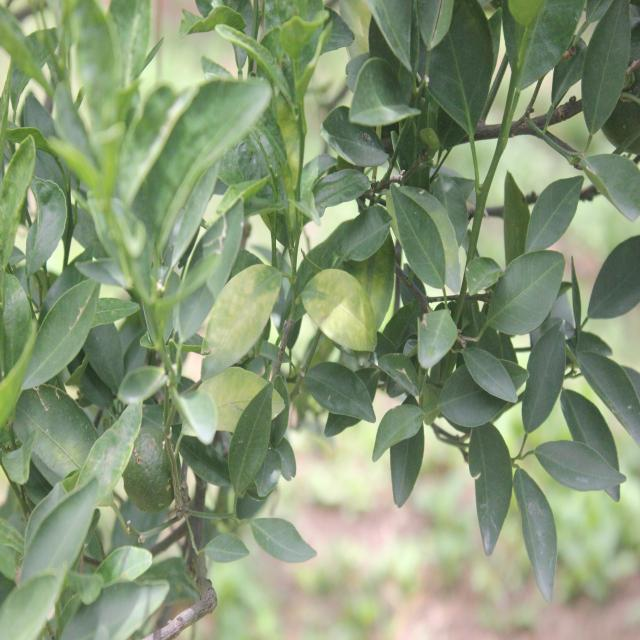greening: (204, 258, 283, 371), (305, 269, 378, 355)
